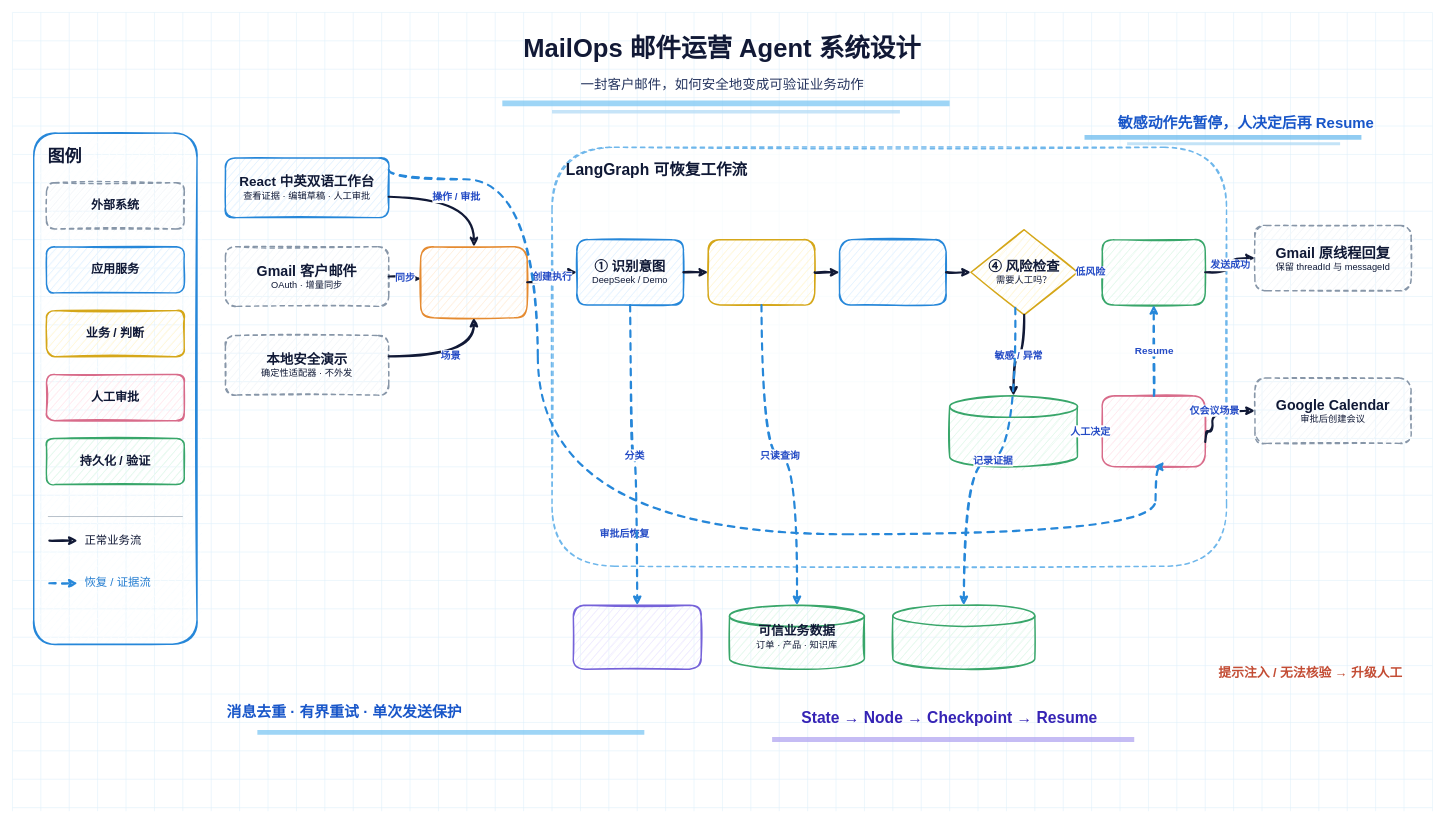
The diagram is 1446 pixels wide and 824 high, and some of its shapes have lost their labels. Here are the shapes that lost their labels. From the top down, the centre of each, then its label:
(x=474, y=282): FastAPI 会话隔离 · REST API
(x=761, y=272): ② 调用业务工具 订单 · 报价 · 日历
(x=892, y=272): ③ 生成回复草稿 只使用已核验数据
(x=1153, y=272): ⑦ 幂等发送 单次发送保护
(x=1013, y=431): ⑤ SQLite Checkpoint 保存 State · 暂停流程
(x=1153, y=431): ⑥ 人工审批 批准 · 编辑 · 拒绝
(x=636, y=637): 分类 Provider DeepSeek / 确定性 Demo
(x=963, y=637): 执行与审计记录 输入 · 决策 · 外部动作 ID
